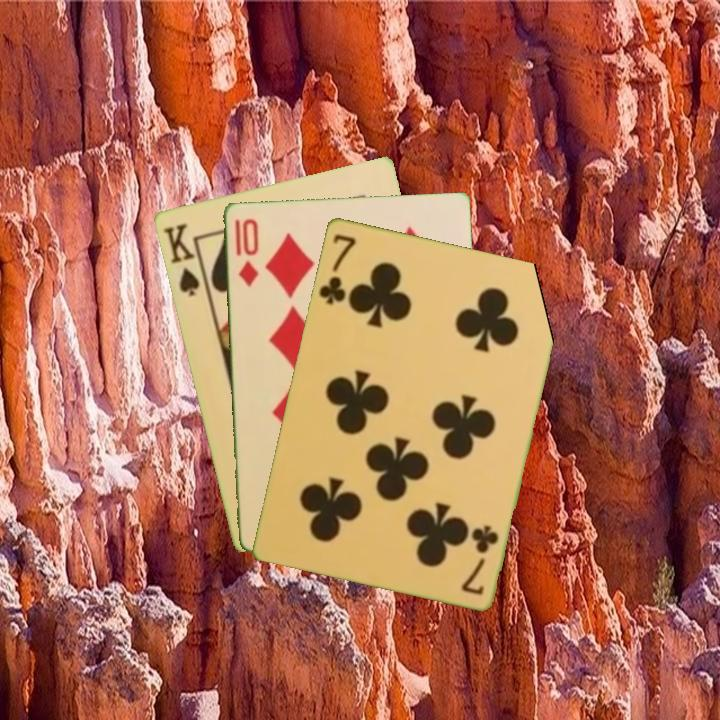10d: (230, 214, 261, 290)
7c: (457, 521, 501, 597), (315, 230, 358, 307)
Ks: (159, 219, 209, 299)
